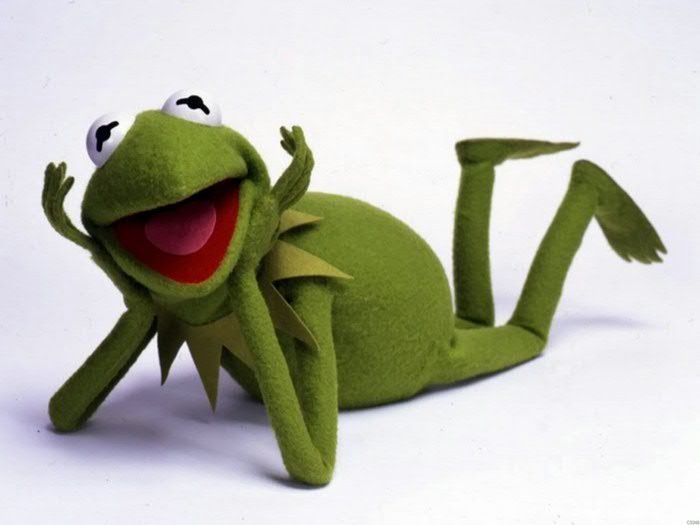kermit: (77, 87, 283, 306)
